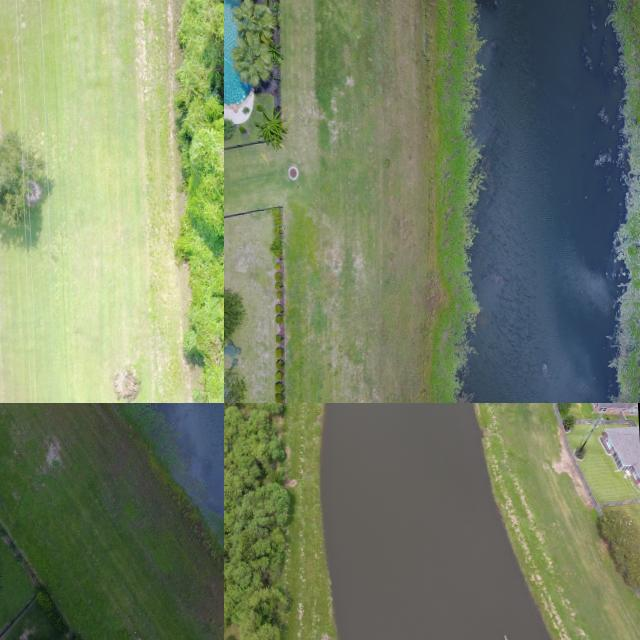fire: (465, 0, 626, 403), (321, 403, 552, 640)
